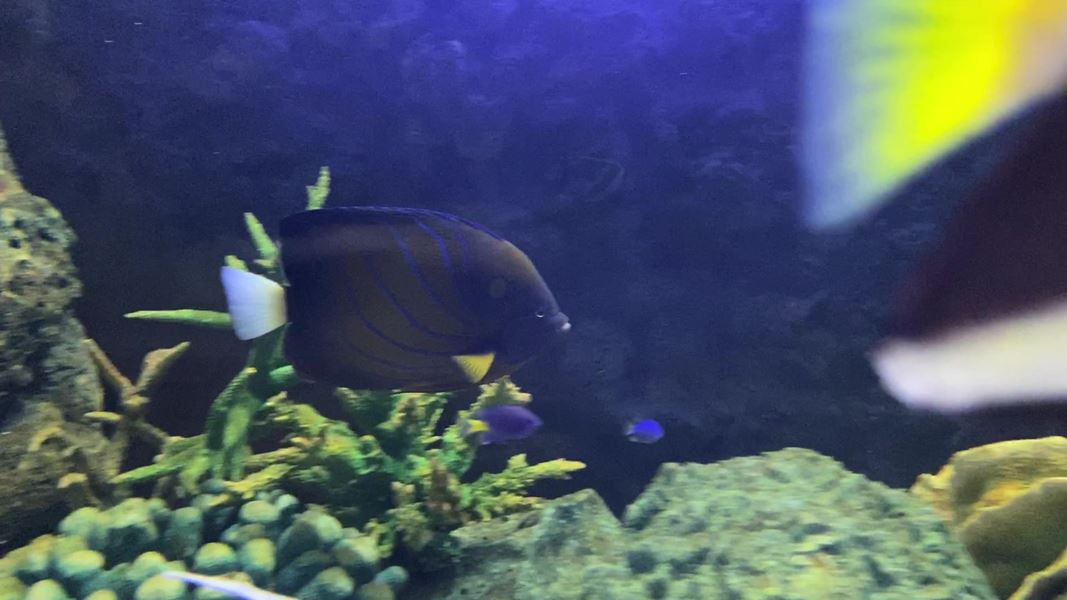Blue ring angelfish: (192, 194, 592, 415)
